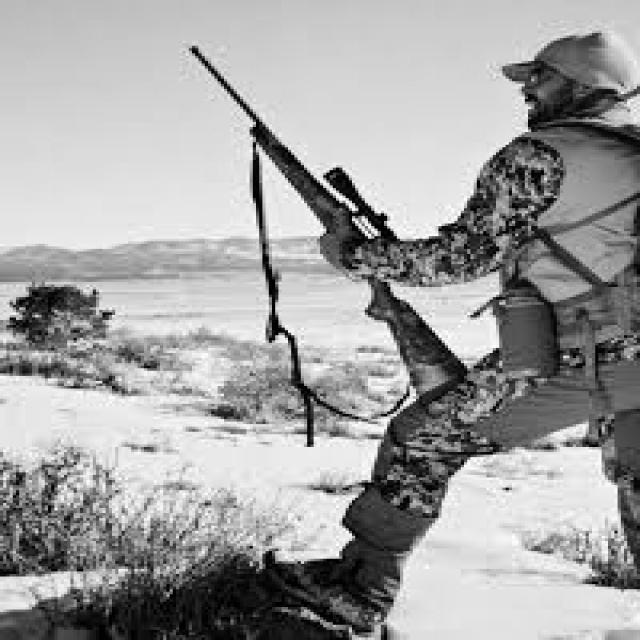rifle: (179, 40, 474, 399)
